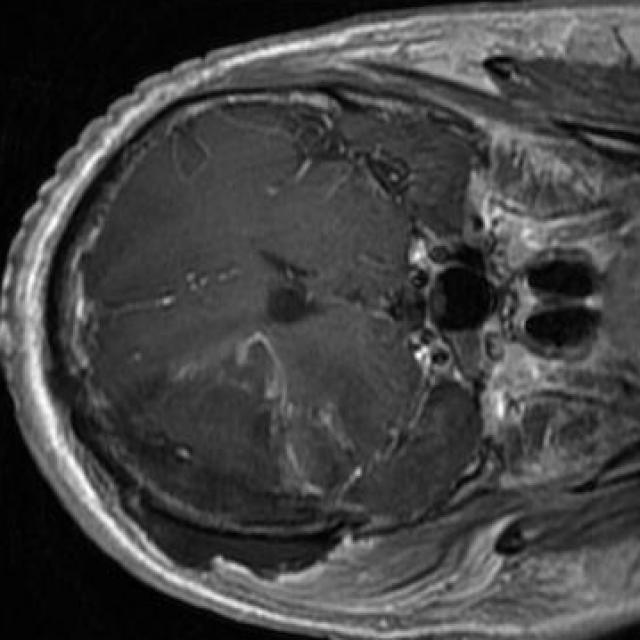glioma: (118, 333, 321, 524)
